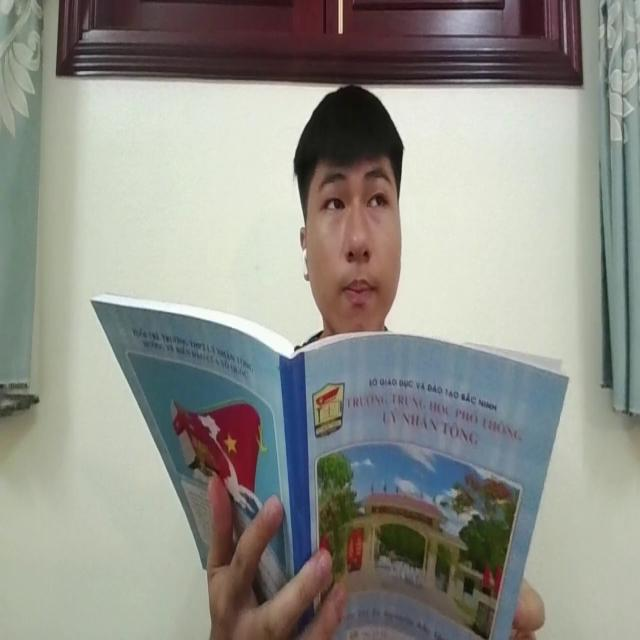book: (87, 277, 570, 640)
student: (289, 77, 413, 337)
